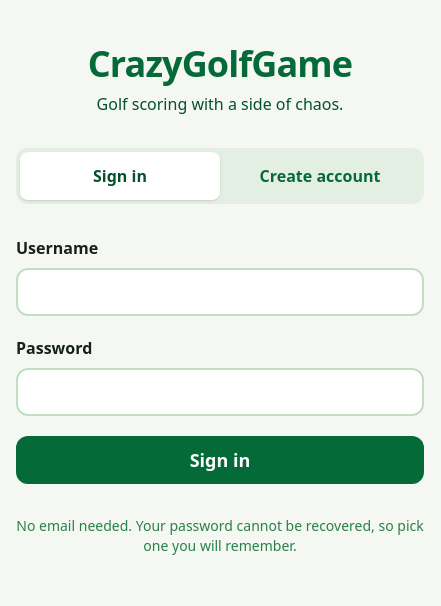
Test: SignInScreen › does not reveal whether the username exists
The width and height of the screenshot is (441, 606).
Type "nobody" into the field labelled "Username" at (220,292), box top-left (16, 268), bottom-right (424, 316)
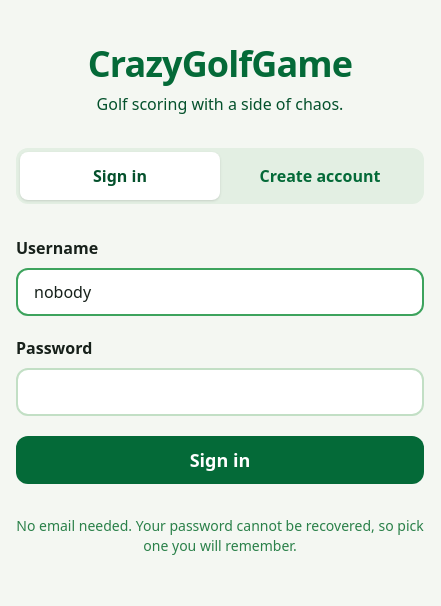
Type "whatever123" into the password field labelled "Password" at (220,392), box top-left (16, 368), bottom-right (424, 416)
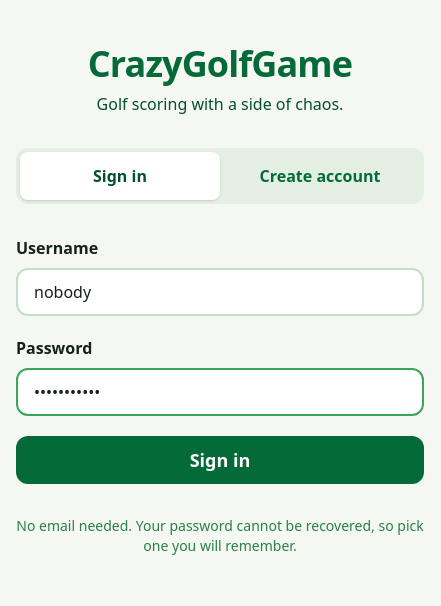
Click the button "Sign in" at (220,460), box top-left (16, 436), bottom-right (424, 484)
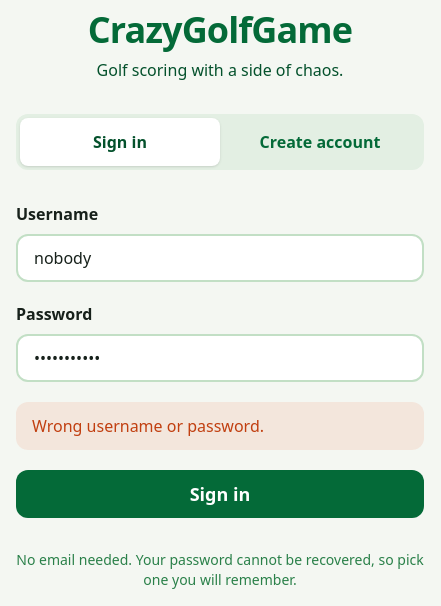
Now the message reads "Wrong username or password.", box top-left (32, 415), bottom-right (264, 437)
